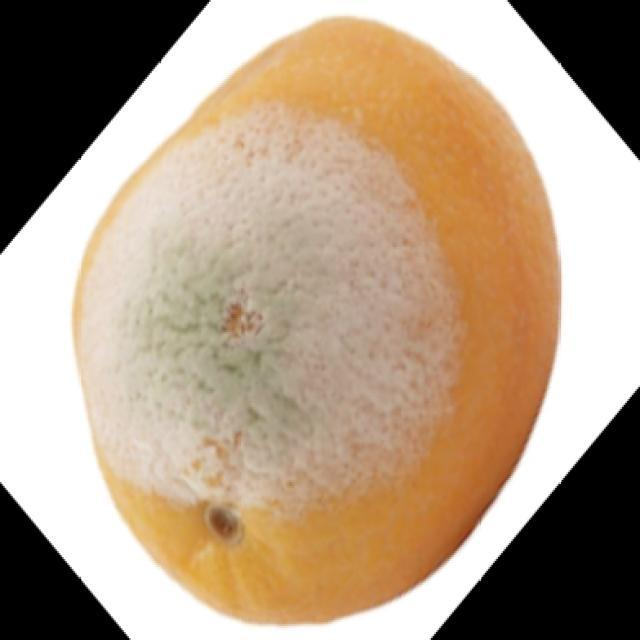sedikit-busuk: (73, 17, 559, 622), (80, 105, 462, 516)
